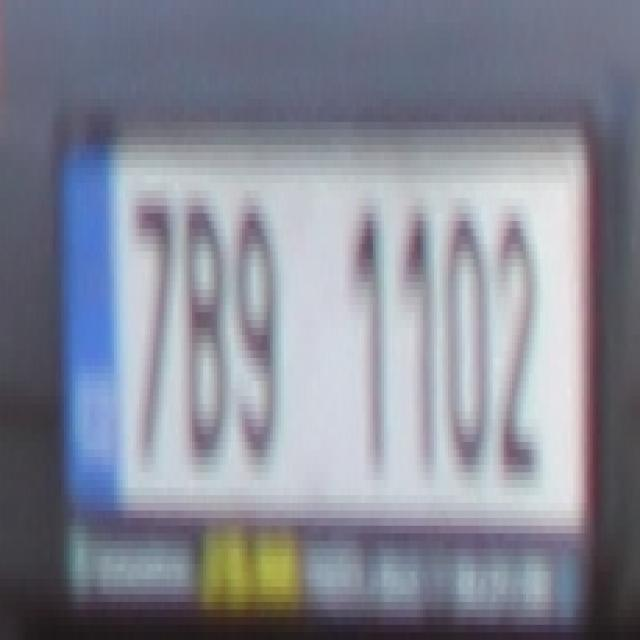0: (437, 183, 492, 465)
1: (395, 190, 434, 480), (348, 198, 387, 480)
2: (495, 190, 543, 480)
7: (126, 190, 176, 465)
9: (234, 190, 281, 465)
B: (178, 198, 225, 457)
